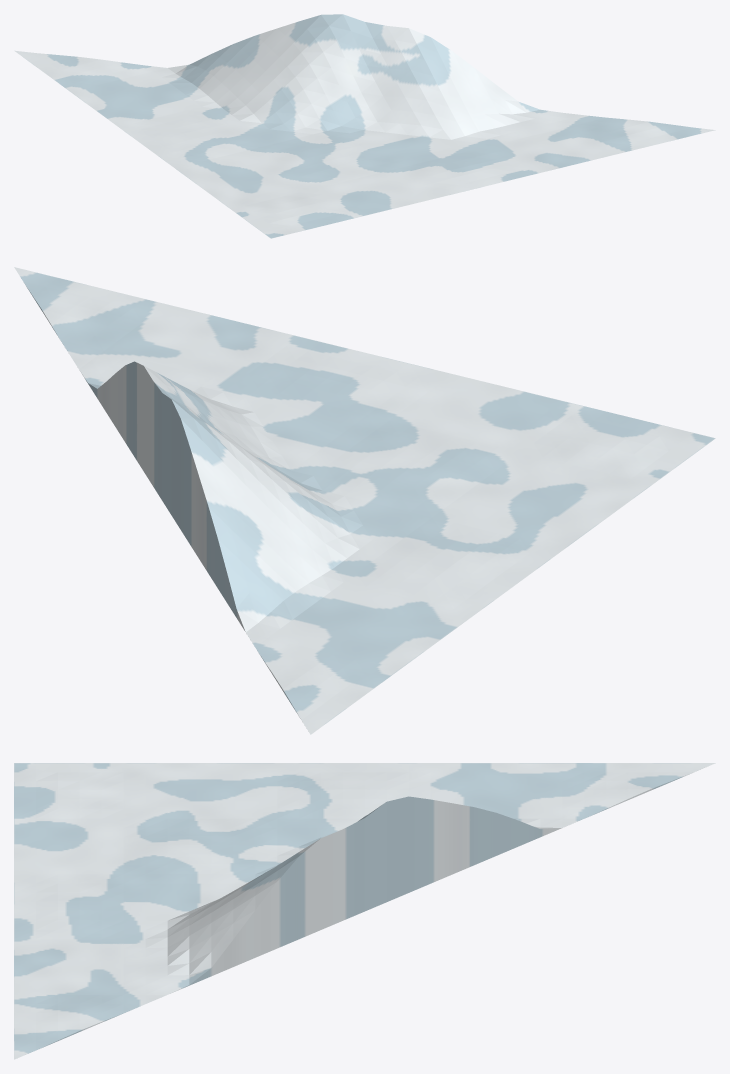
The model's file is Snow_Mountains_09_NW.obj.
3 views of the same model, one above another, from view 1: azimuth 30°, elevation 25°; view 2: azimuth 150°, elevation 25°; view 3: azimuth 270°, elevation 25° (orthographic). The views are drawn at different scales.
Bounding box in the file's own units: 10 × 1.58 × 10.
1 material, 1 textured.
